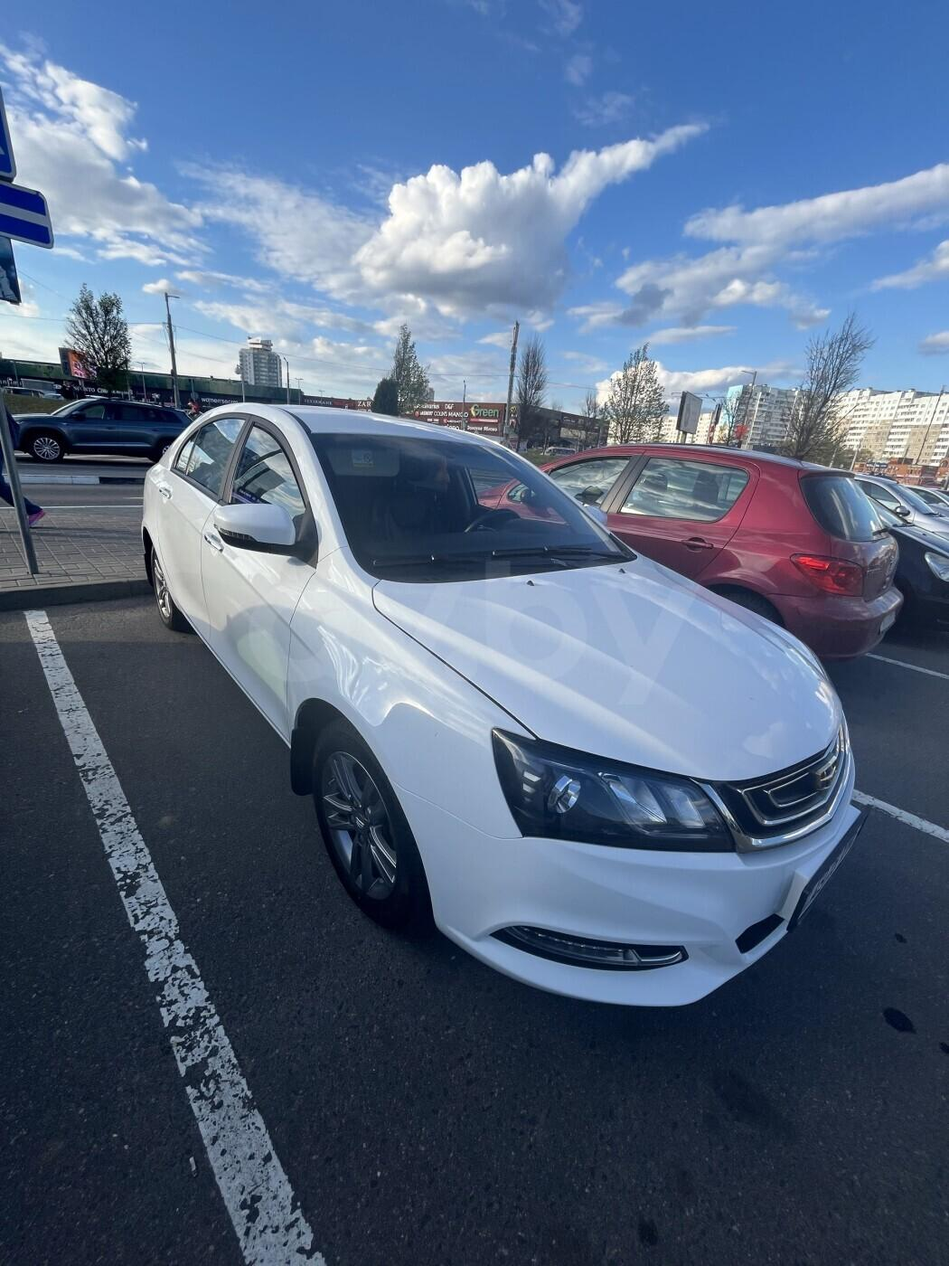Emgrand_2019-2021: (140, 405, 864, 1006)
